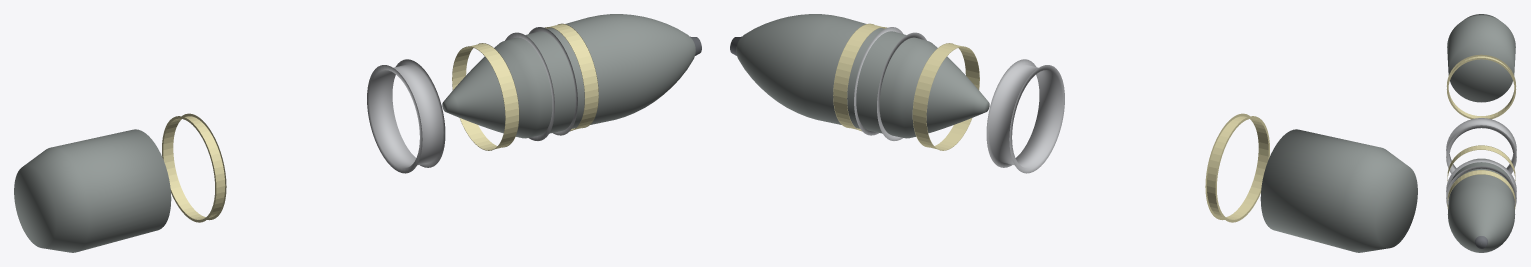
The model's file is RU_SLBM_R29_LOD0.fbx.
3 views of the same model, side by side, from view 1: azimuth 30°, elevation 25°; view 2: azimuth 150°, elevation 25°; view 3: azimuth 270°, elevation 25° (orthographic). The views are drawn at different scales.
Visible parts, largest first — view 1: WPN_RU_SLBM_R29_LOD0_Body, WPN_RU_SLBM_R29_LOD0_Tail, WPN_RU_SLBM_R29_LOD0_Marking, WPN_RU_SLBM_R29_LOD0_Detail; view 2: WPN_RU_SLBM_R29_LOD0_Body, WPN_RU_SLBM_R29_LOD0_Tail, WPN_RU_SLBM_R29_LOD0_Marking, WPN_RU_SLBM_R29_LOD0_Detail; view 3: WPN_RU_SLBM_R29_LOD0_Tail, WPN_RU_SLBM_R29_LOD0_Body, WPN_RU_SLBM_R29_LOD0_Detail, WPN_RU_SLBM_R29_LOD0_Marking, WPN_RU_SLBM_R29_LOD0_Nose.
Part boxes in pixels (x1,y1,x2,y2): WPN_RU_SLBM_R29_LOD0_Body: (442,14,695,138); WPN_RU_SLBM_R29_LOD0_Tail: (14,129,171,252); WPN_RU_SLBM_R29_LOD0_Marking: (162,23,598,222); WPN_RU_SLBM_R29_LOD0_Detail: (367,27,577,173); WPN_RU_SLBM_R29_LOD0_Body: (736,14,989,138); WPN_RU_SLBM_R29_LOD0_Tail: (1260,129,1417,252); WPN_RU_SLBM_R29_LOD0_Marking: (833,23,1269,222); WPN_RU_SLBM_R29_LOD0_Detail: (854,27,1064,173); WPN_RU_SLBM_R29_LOD0_Tail: (1447,14,1515,102); WPN_RU_SLBM_R29_LOD0_Body: (1447,158,1515,252); WPN_RU_SLBM_R29_LOD0_Detail: (1446,118,1516,206); WPN_RU_SLBM_R29_LOD0_Marking: (1446,54,1516,208); WPN_RU_SLBM_R29_LOD0_Nose: (1475,236,1487,248).
Bounding box in the file's own units: 13 × 1.89 × 1.89.
